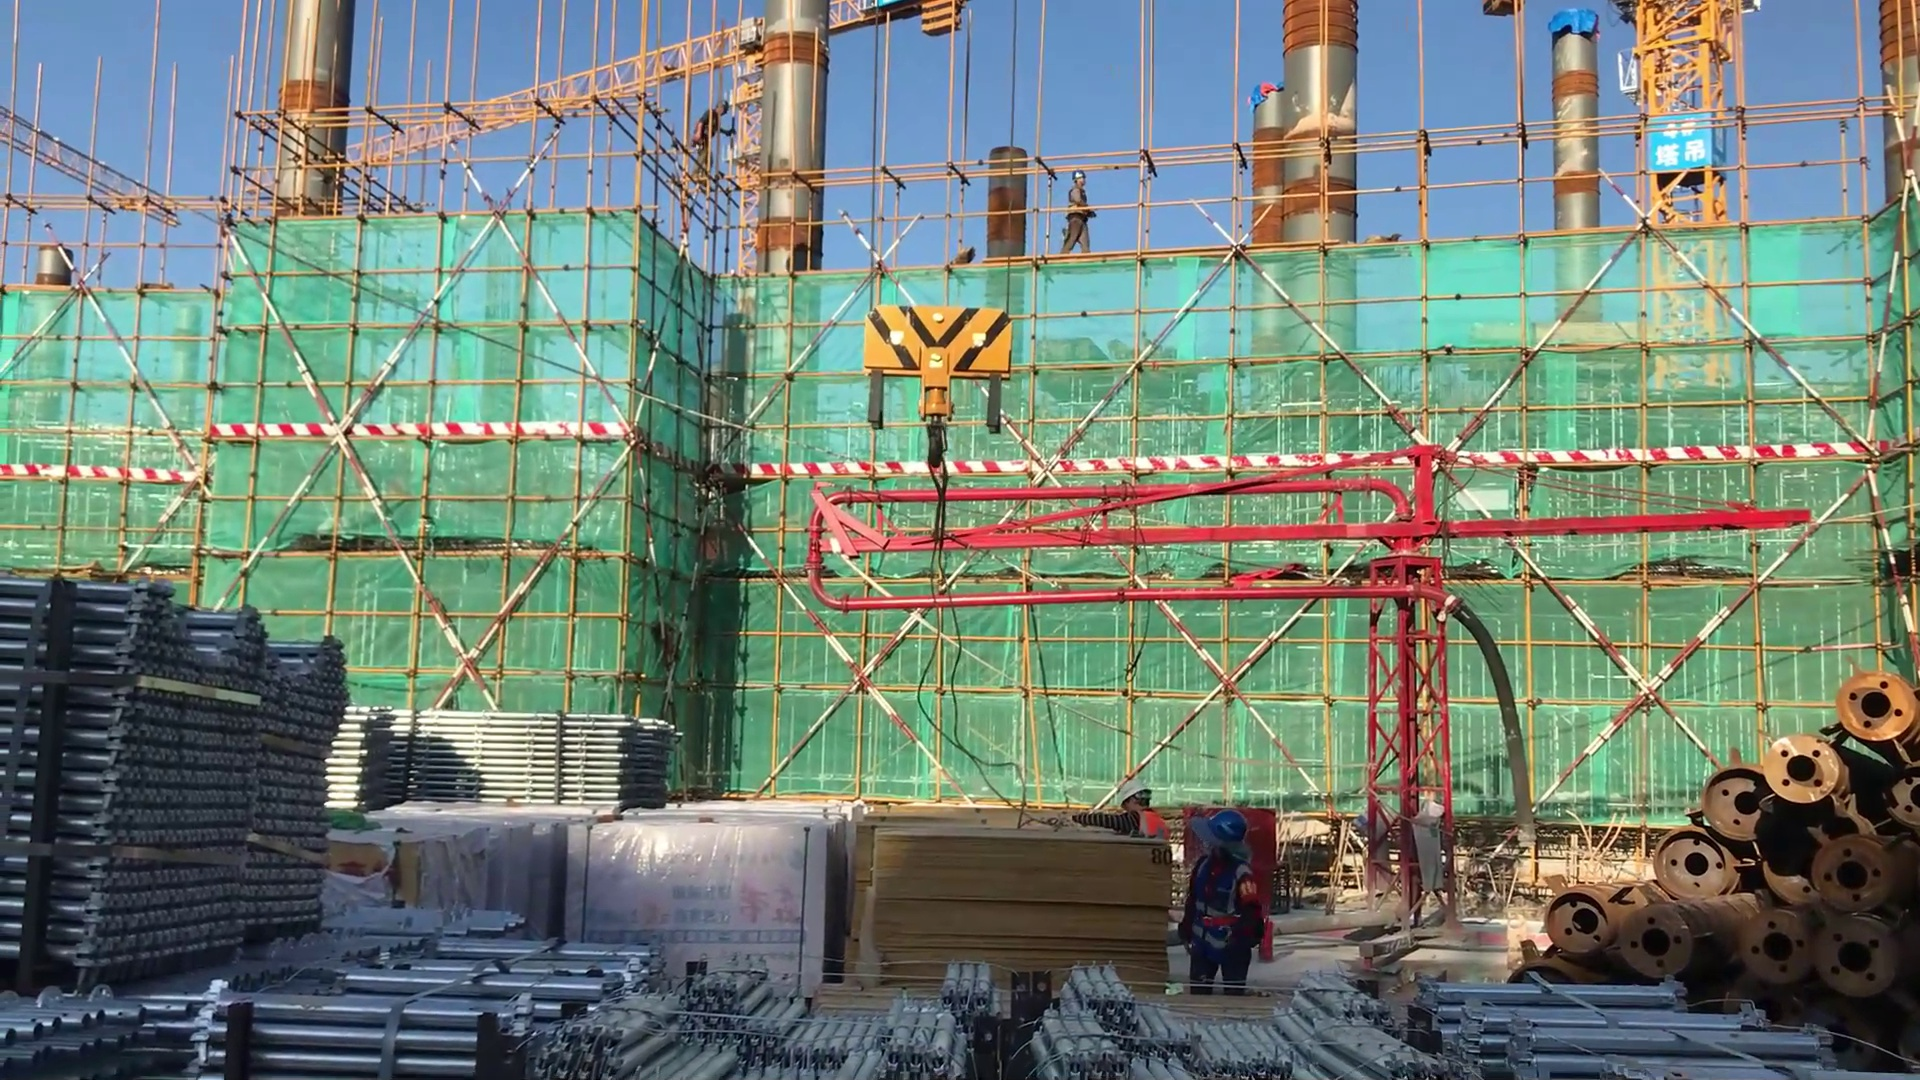board: (856, 824, 1170, 979)
helmet: (1204, 807, 1251, 849), (1114, 781, 1155, 816), (1070, 164, 1089, 191)
hook: (833, 298, 1048, 510)
person: (1169, 798, 1269, 1004), (1051, 780, 1171, 845), (1062, 165, 1095, 260)
scaffold: (1, 571, 348, 979), (243, 903, 654, 1080), (1275, 963, 1832, 1080), (540, 966, 970, 1080), (933, 956, 1306, 1080), (311, 699, 687, 817), (1, 955, 230, 1074)
slogan: (1641, 117, 1723, 181)
vest: (1184, 854, 1253, 962), (1132, 809, 1170, 845)
